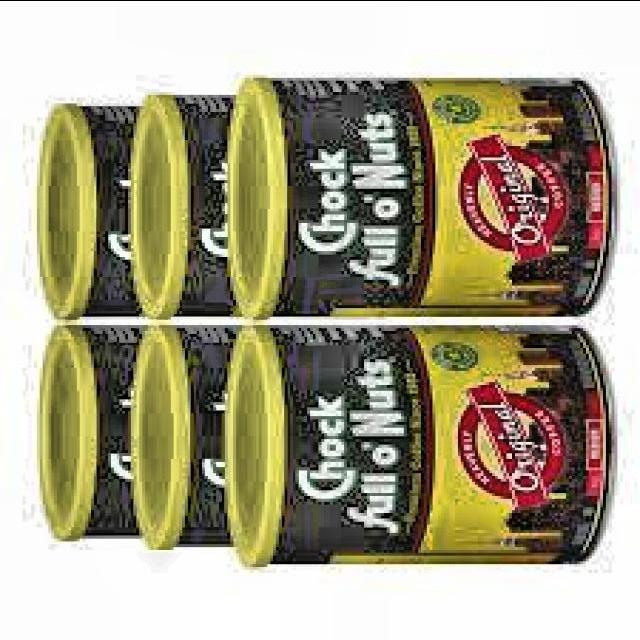Aluminum Can: (222, 314, 620, 574), (220, 68, 622, 319), (128, 319, 255, 552), (124, 86, 250, 320), (32, 321, 154, 547), (28, 98, 146, 322)
